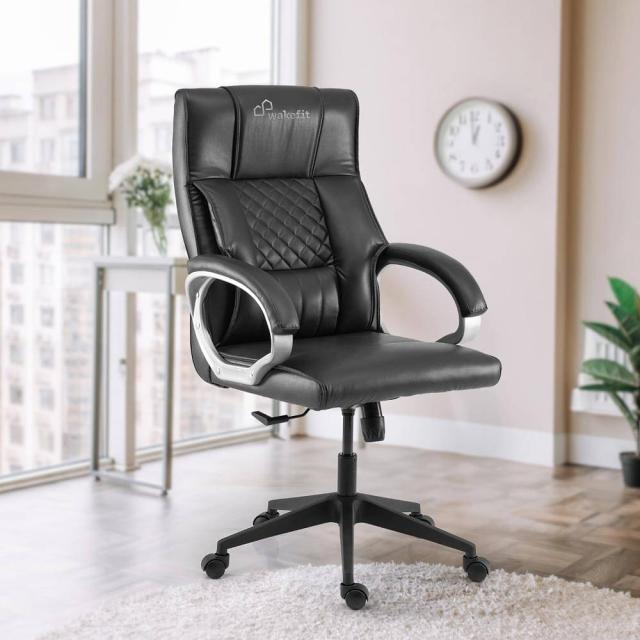chair: (171, 83, 502, 610)
